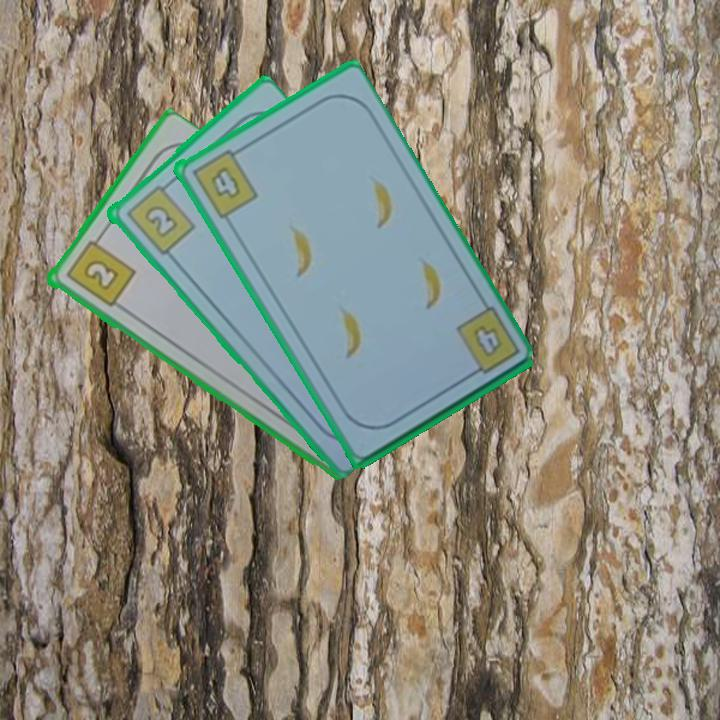2b: (122, 177, 198, 258), (61, 231, 138, 310)
4b: (187, 143, 260, 221), (452, 303, 523, 381)
